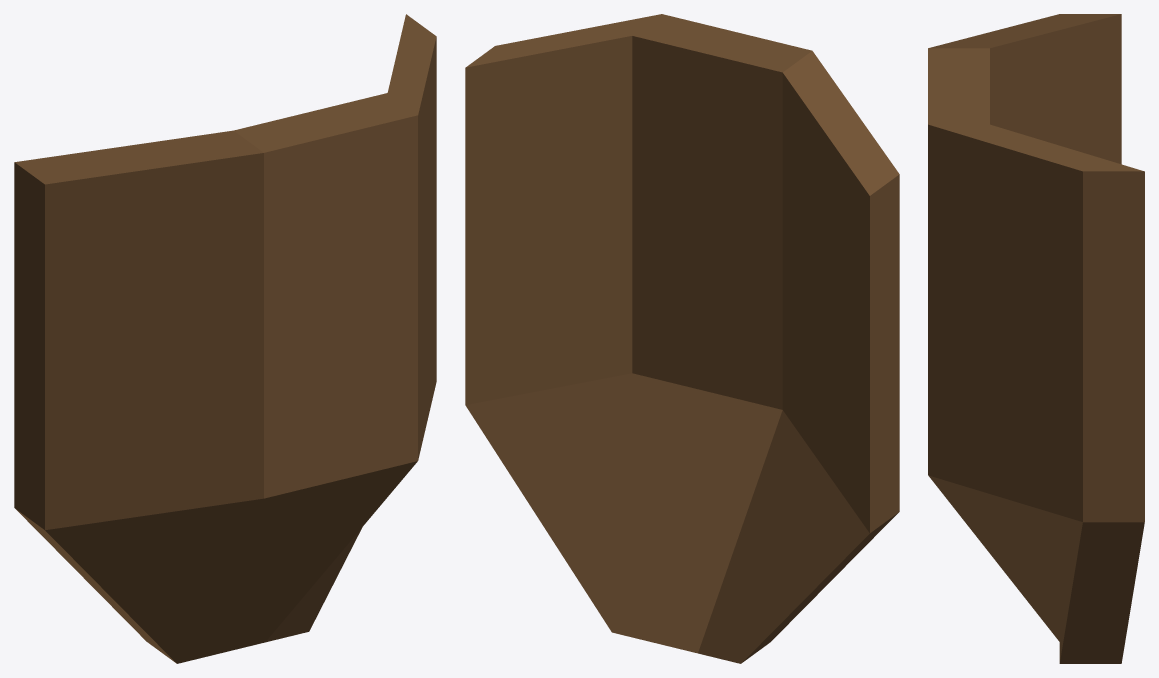
The model's file is glove1-L.fbx.
3 renders of one model, left to right at view 1: azimuth 30°, elevation 25°; view 2: azimuth 150°, elevation 25°; view 3: azimuth 270°, elevation 25°, orthographic. The views are drawn at different scales.
Parts seen in each view (by area): view 1: cuboid; view 2: cuboid; view 3: cuboid.
Part boxes in pixels (x1,y1,x2,y2): cuboid: [14, 14, 436, 663]; cuboid: [465, 14, 899, 663]; cuboid: [928, 14, 1144, 663].
Size of the model in its own units: 38.12 by 50 by 17.5.
Materials: 1 (1 with a texture image).
